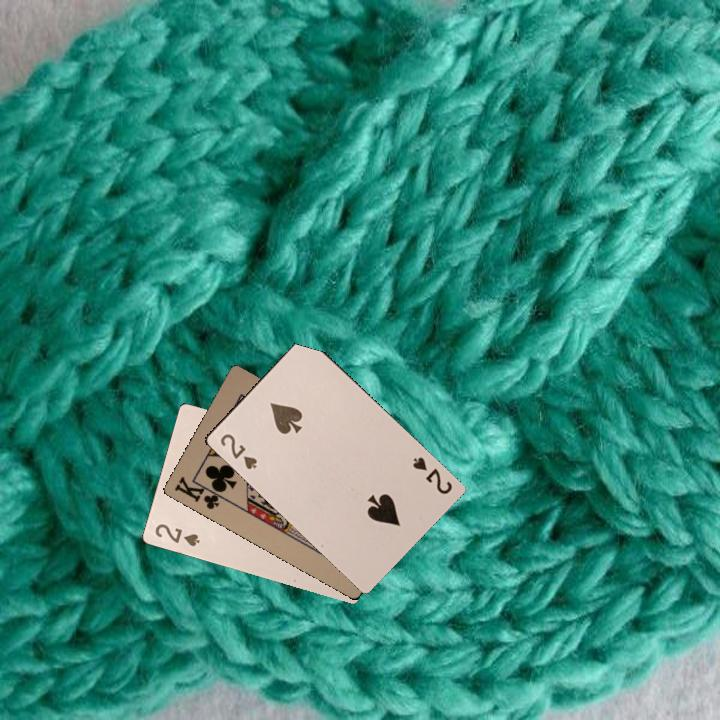2s: (409, 453, 455, 497), (216, 429, 260, 472), (151, 520, 202, 549)
Kc: (170, 471, 228, 512)
